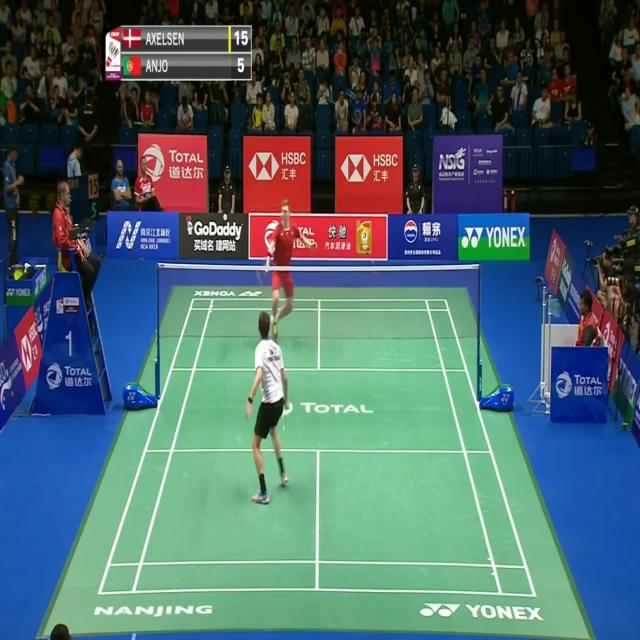Player1: (242, 309, 294, 513)
Player2: (252, 198, 320, 344)
